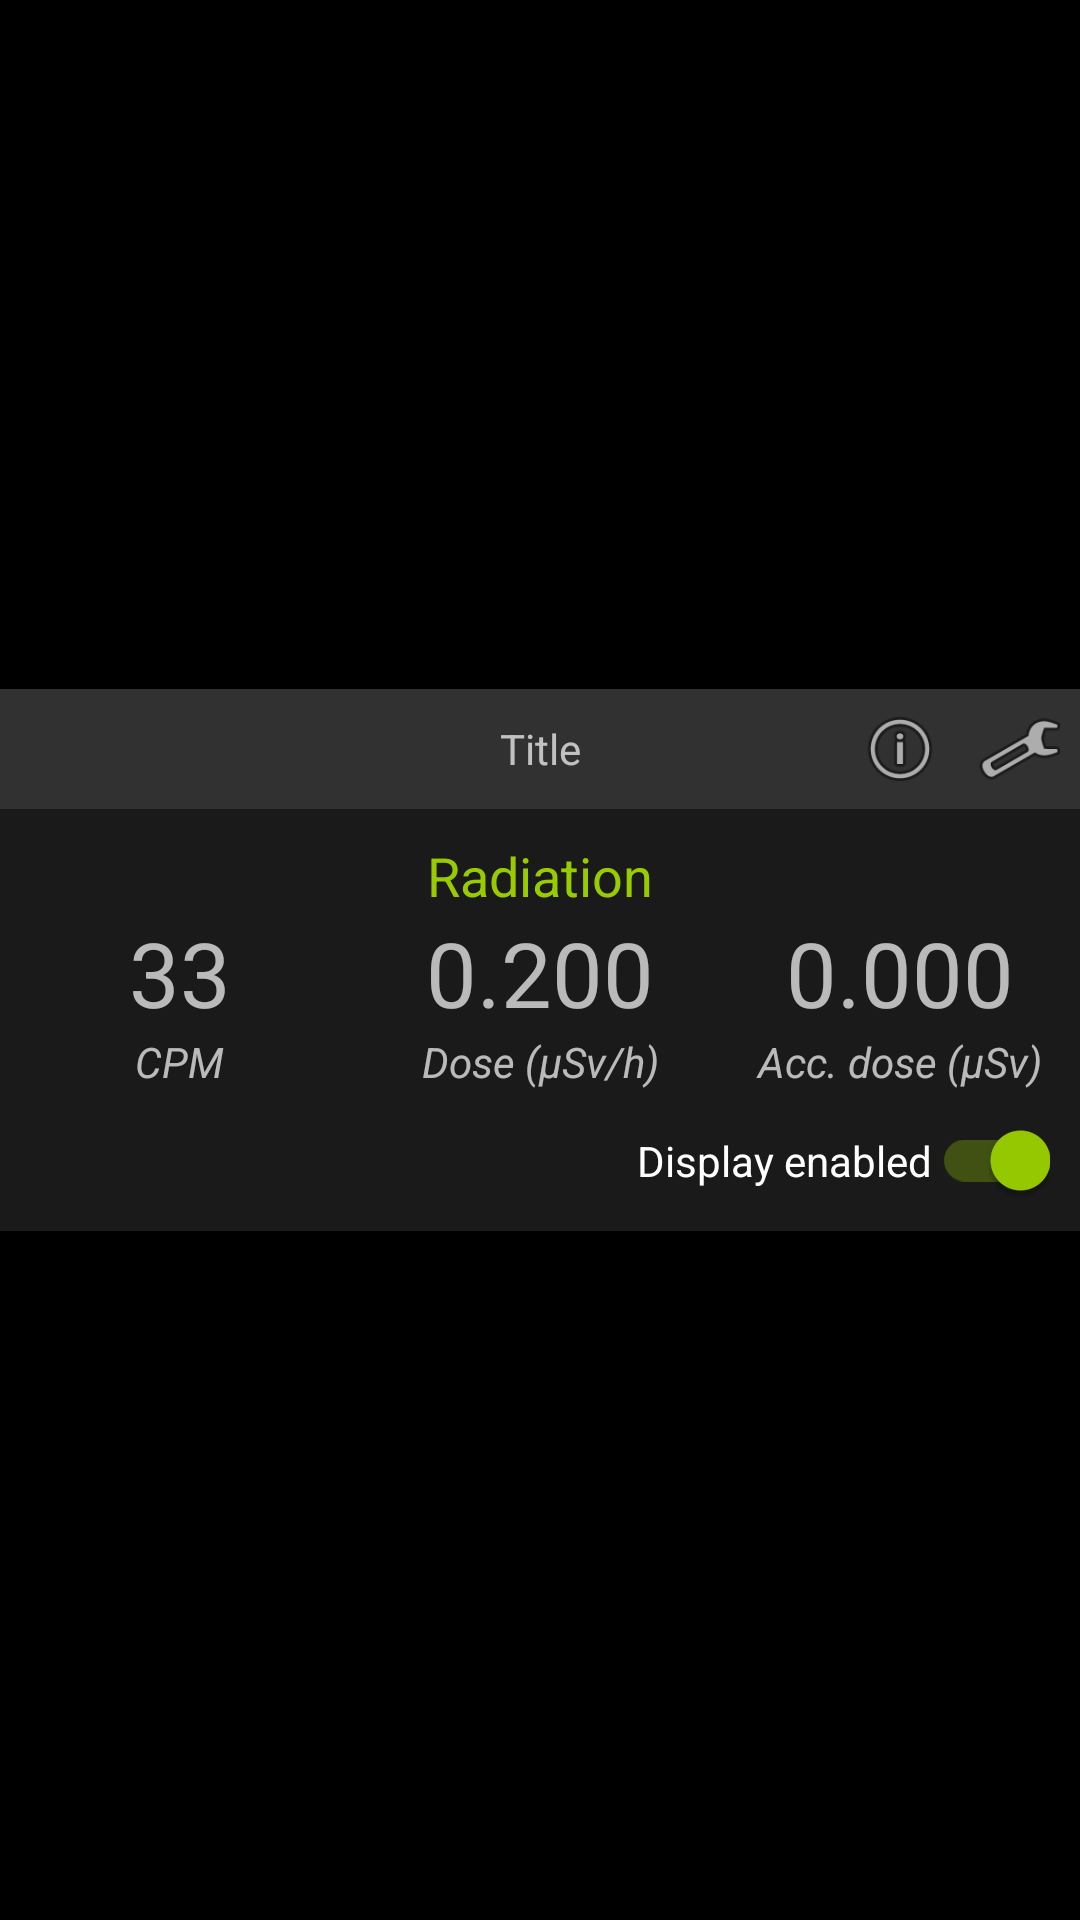

Icon bounding boxes for this 1080px x 1920px phone screenshot, format (x1, y1, x2, y2):
info details: (871, 720, 929, 778)
manage: (982, 721, 1058, 777)
